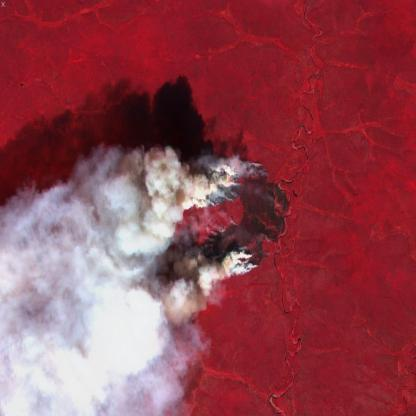fire: (180, 150, 294, 298)
